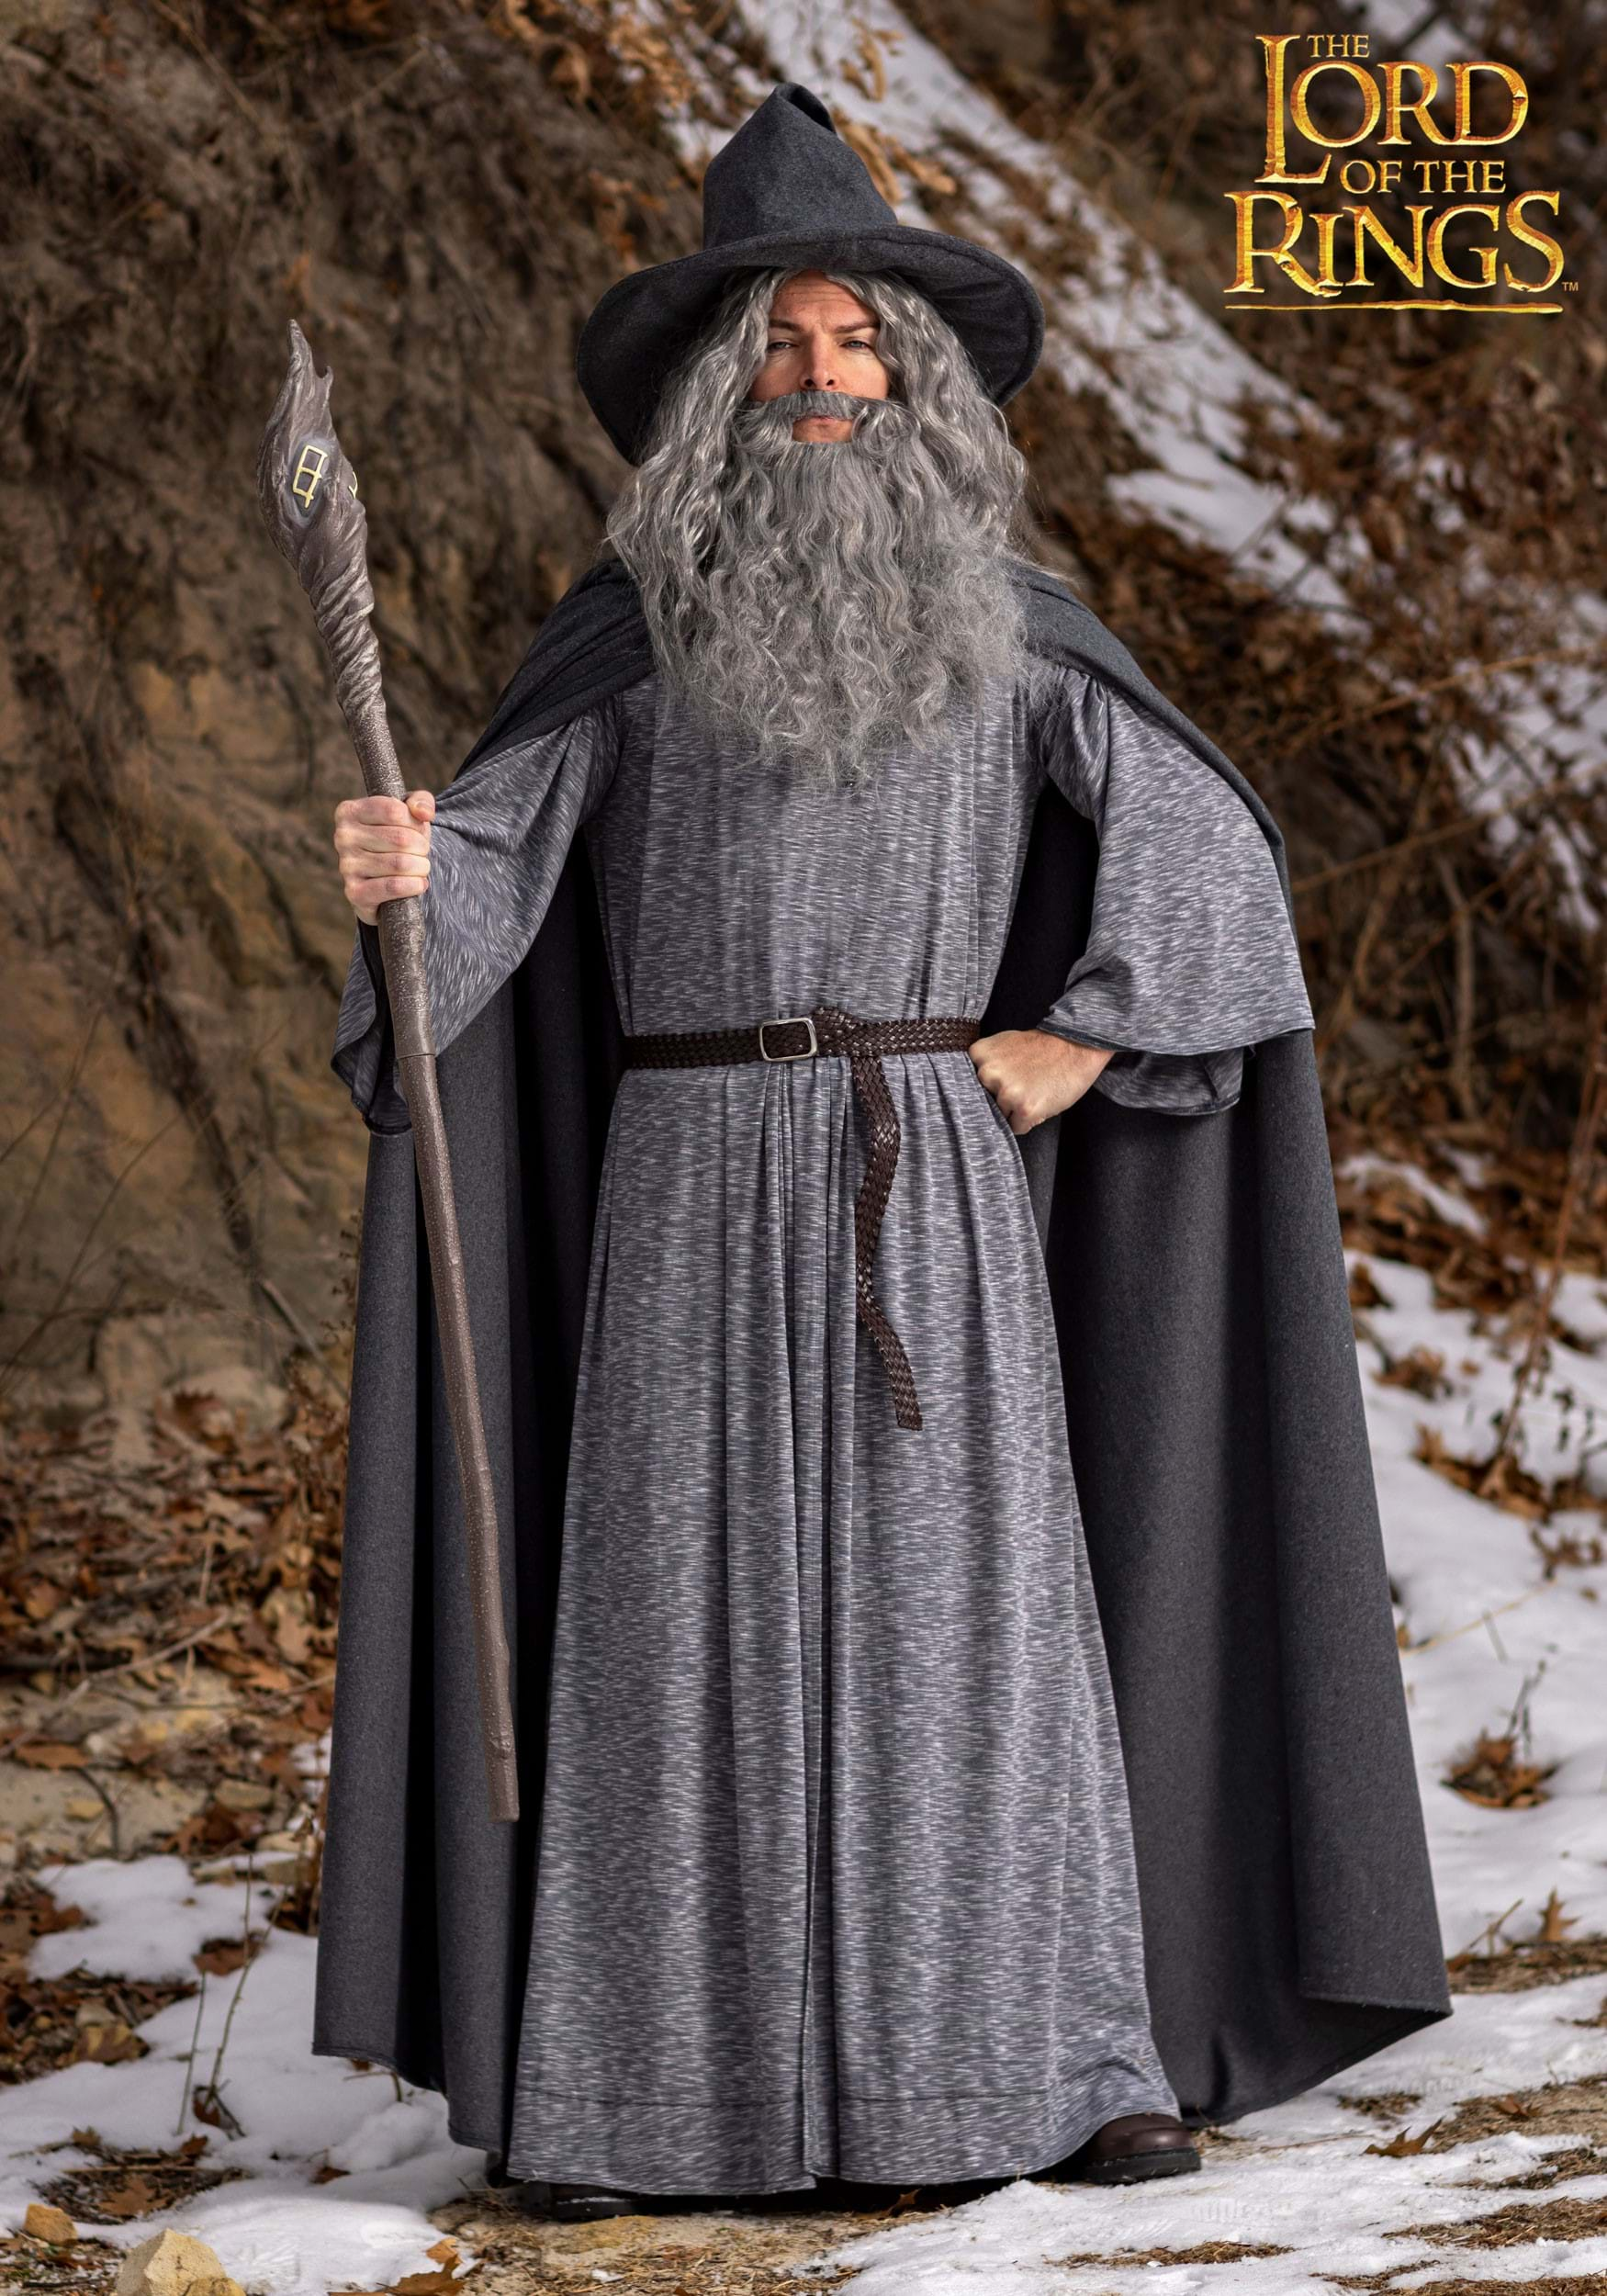gandalf grey: (164, 38, 1478, 2184)
